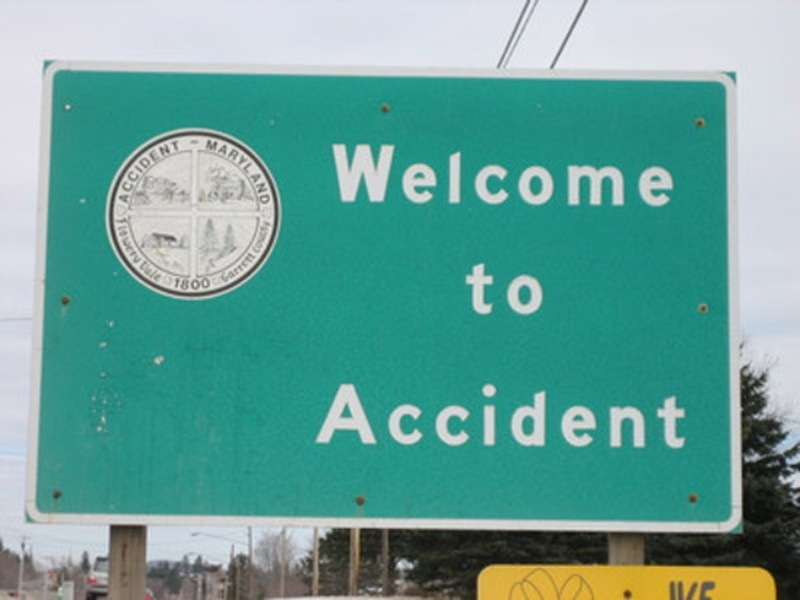text: (129, 213, 144, 305), (145, 213, 160, 305), (193, 128, 208, 207), (209, 128, 224, 207), (225, 128, 240, 207), (241, 128, 256, 207), (257, 128, 272, 207), (129, 134, 144, 210), (145, 134, 160, 210), (161, 134, 176, 210), (225, 218, 240, 291), (241, 218, 256, 291), (257, 218, 272, 291), (321, 381, 336, 450), (337, 381, 352, 450), (353, 381, 368, 450), (369, 381, 384, 450), (385, 381, 400, 450), (401, 381, 416, 450), (417, 381, 432, 450), (433, 381, 448, 450), (449, 381, 464, 450), (465, 381, 480, 450), (481, 381, 496, 450), (497, 381, 512, 450), (513, 381, 528, 450), (529, 381, 544, 450), (545, 381, 560, 450), (561, 381, 576, 450), (577, 381, 592, 450), (593, 381, 608, 450), (609, 381, 624, 450), (625, 381, 640, 450), (641, 381, 656, 450), (657, 381, 672, 450), (673, 381, 688, 450), (337, 143, 352, 207), (353, 143, 368, 207), (369, 143, 384, 207), (385, 143, 400, 207), (401, 143, 416, 207), (417, 143, 432, 207), (433, 143, 448, 207), (449, 143, 464, 207), (465, 143, 480, 207), (481, 143, 496, 207), (497, 143, 512, 207), (513, 143, 528, 207), (529, 143, 544, 207), (545, 143, 560, 207), (561, 143, 576, 207), (577, 143, 592, 207), (593, 143, 608, 207), (609, 143, 624, 207), (625, 143, 640, 207), (641, 143, 656, 207), (657, 143, 672, 207), (481, 264, 496, 316), (497, 264, 512, 316), (513, 264, 528, 316), (529, 264, 544, 316), (273, 218, 283, 291), (466, 264, 480, 316), (216, 218, 224, 291), (177, 134, 181, 210), (161, 213, 164, 305), (332, 143, 336, 207), (177, 277, 192, 291), (193, 277, 208, 291), (126, 213, 128, 305), (673, 143, 675, 207), (273, 128, 274, 207), (174, 277, 176, 291), (209, 277, 210, 291)
